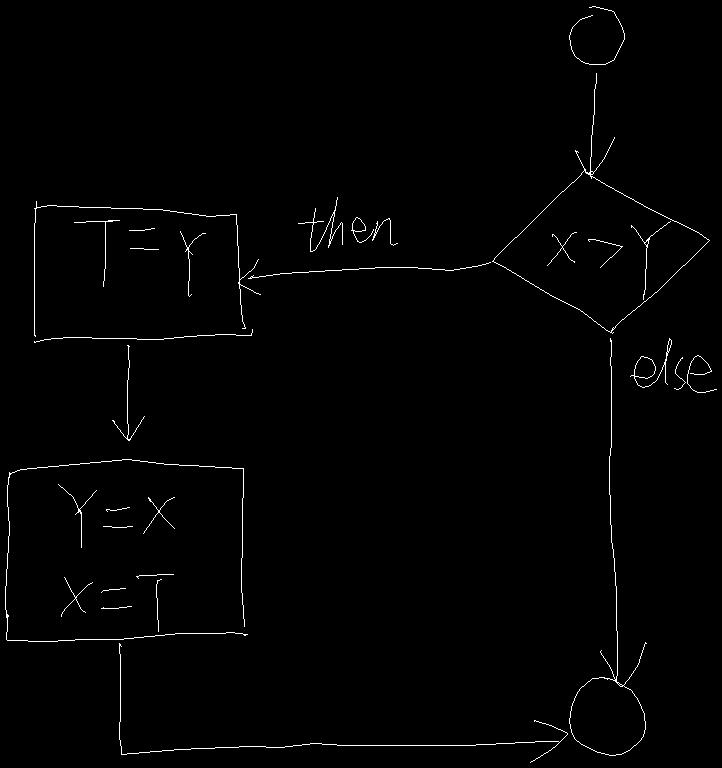arrow: (119, 643, 567, 762), (600, 338, 646, 686), (238, 259, 490, 294), (575, 73, 614, 178), (112, 345, 144, 440)
connection: (569, 677, 645, 755), (569, 6, 624, 64)
decision: (492, 169, 709, 333)
process: (5, 459, 247, 641), (34, 201, 252, 342)
text: (58, 484, 174, 631), (74, 220, 205, 296), (547, 221, 670, 299), (298, 197, 397, 251), (630, 338, 716, 392)
